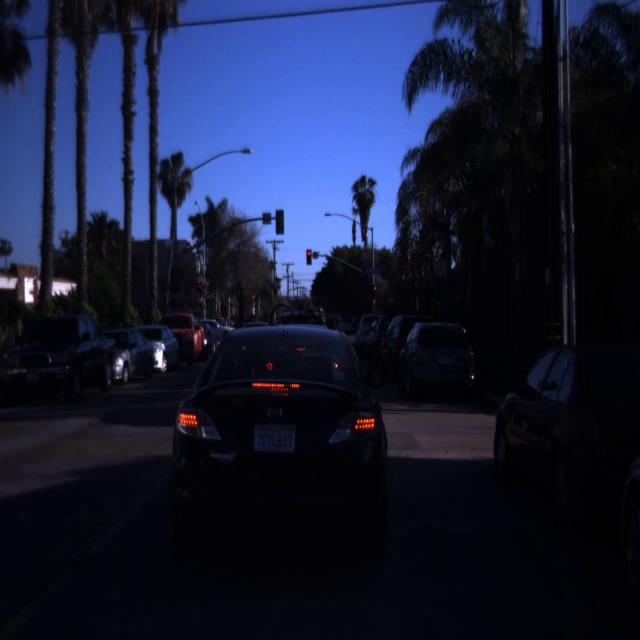stop: (305, 250, 314, 268), (371, 284, 380, 302), (195, 282, 204, 300)
stop traffic light: (305, 250, 314, 268), (371, 284, 380, 302), (195, 282, 204, 300)
